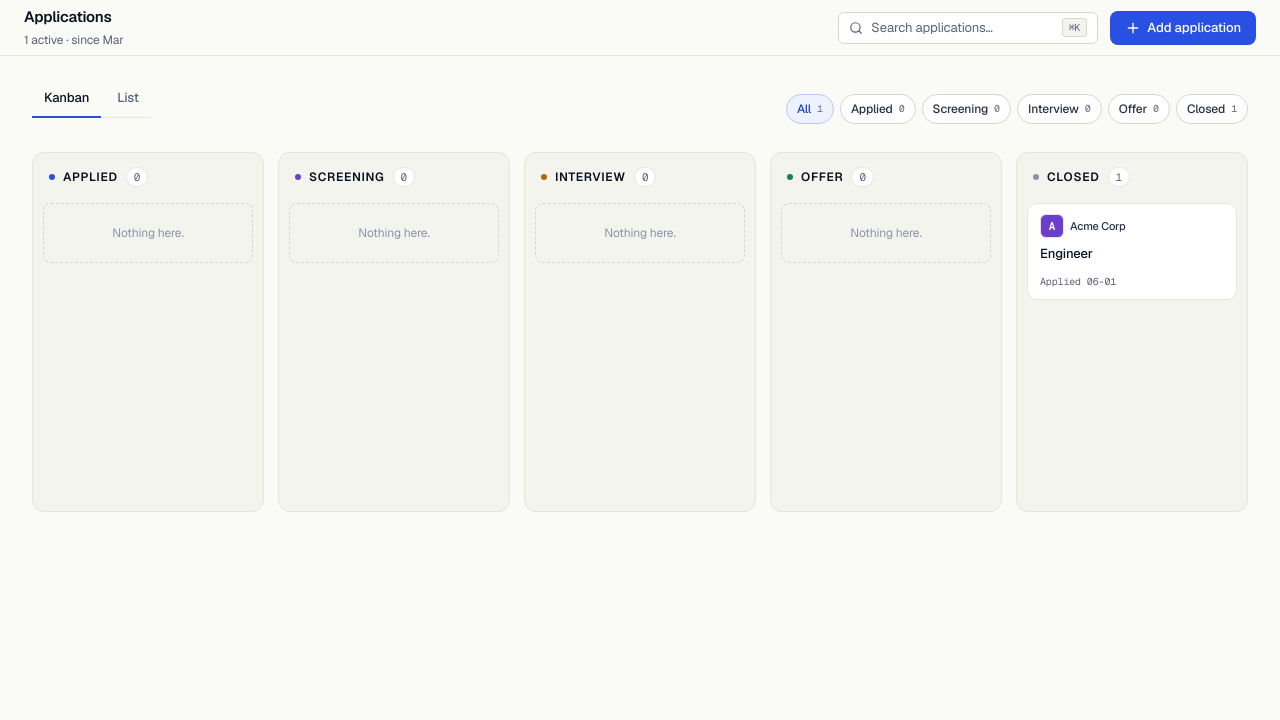
Test: TC-DND-015: Moving from a Closed sub-status back into the pipeline requires confirmation (AC-15) › shows a confirmation naming Rejected -> Screening
Step 1. Press the mouse on the button "A Acme Corp Engineer Applied 06-01" → (1132, 251), box [1027, 203, 1237, 300]
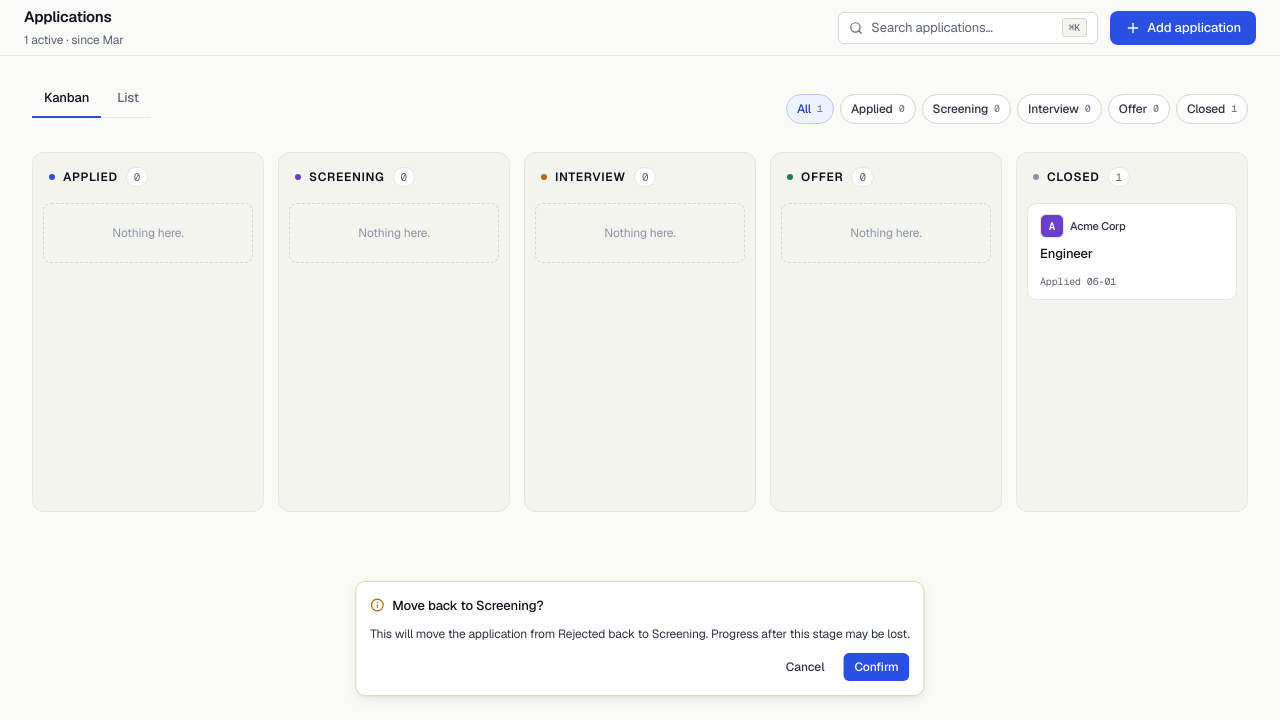
Expected: the dialog shows "Rejected", [558, 626, 605, 642]
Expected: the dialog shows "Screening", [476, 596, 536, 614]
